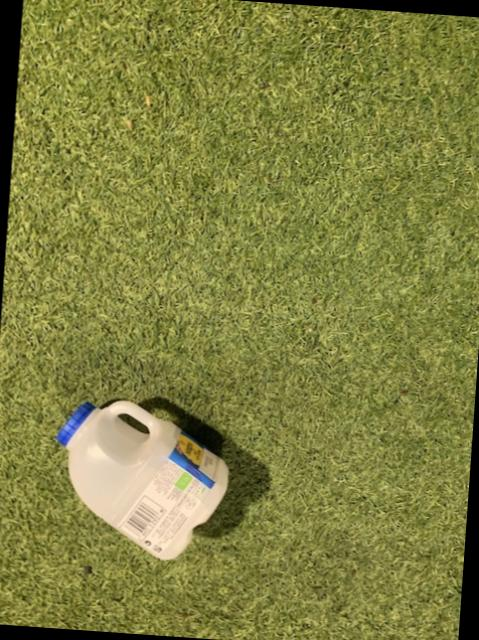plastic: (58, 399, 228, 556)
